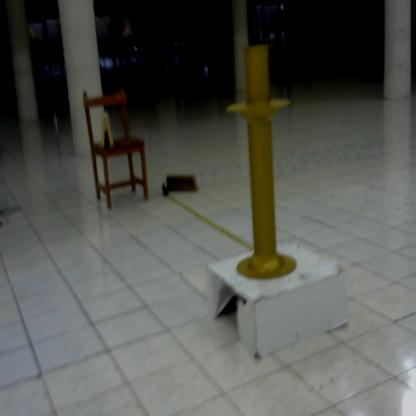pole: (223, 42, 306, 284)
